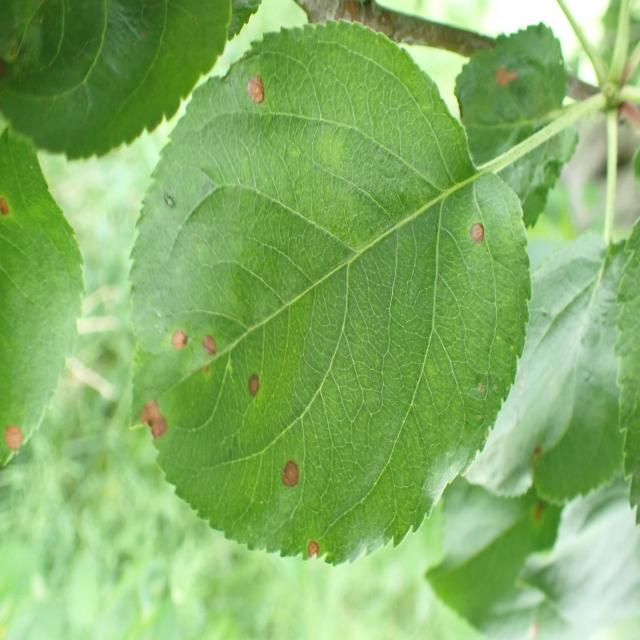Black Rot: (435, 188, 507, 271), (212, 56, 290, 122), (140, 391, 170, 447), (0, 412, 26, 465), (198, 316, 225, 366), (238, 369, 268, 411), (168, 320, 195, 365), (280, 458, 304, 493), (302, 538, 326, 571)
